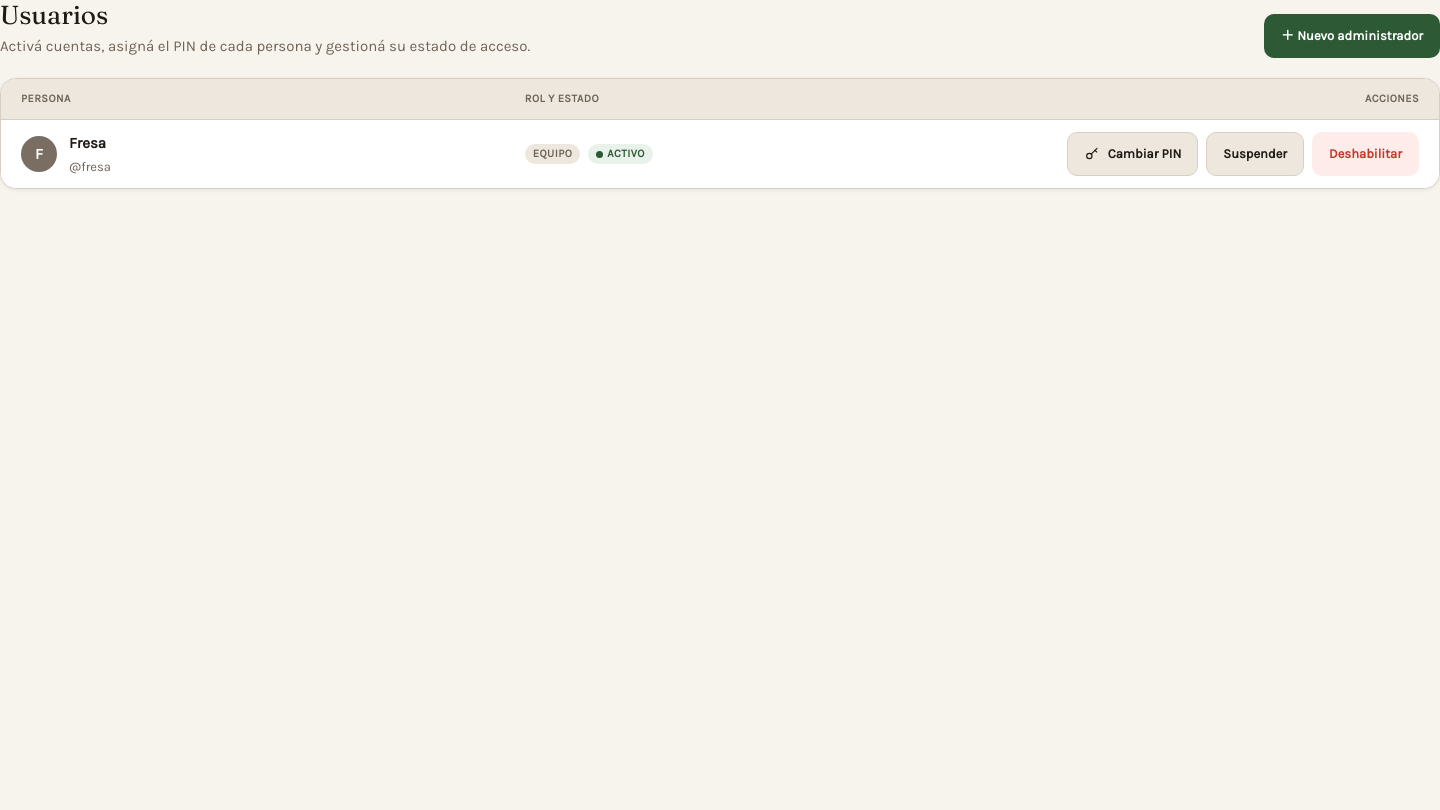
AdminUsersScreen › reset de PIN de otra persona: refresca la lista, nunca cierra la sesión propia
Step 1. Click the button "Cambiar PIN" → coordinates (1132, 154), box x1=1067 y1=132 x2=1198 y2=176
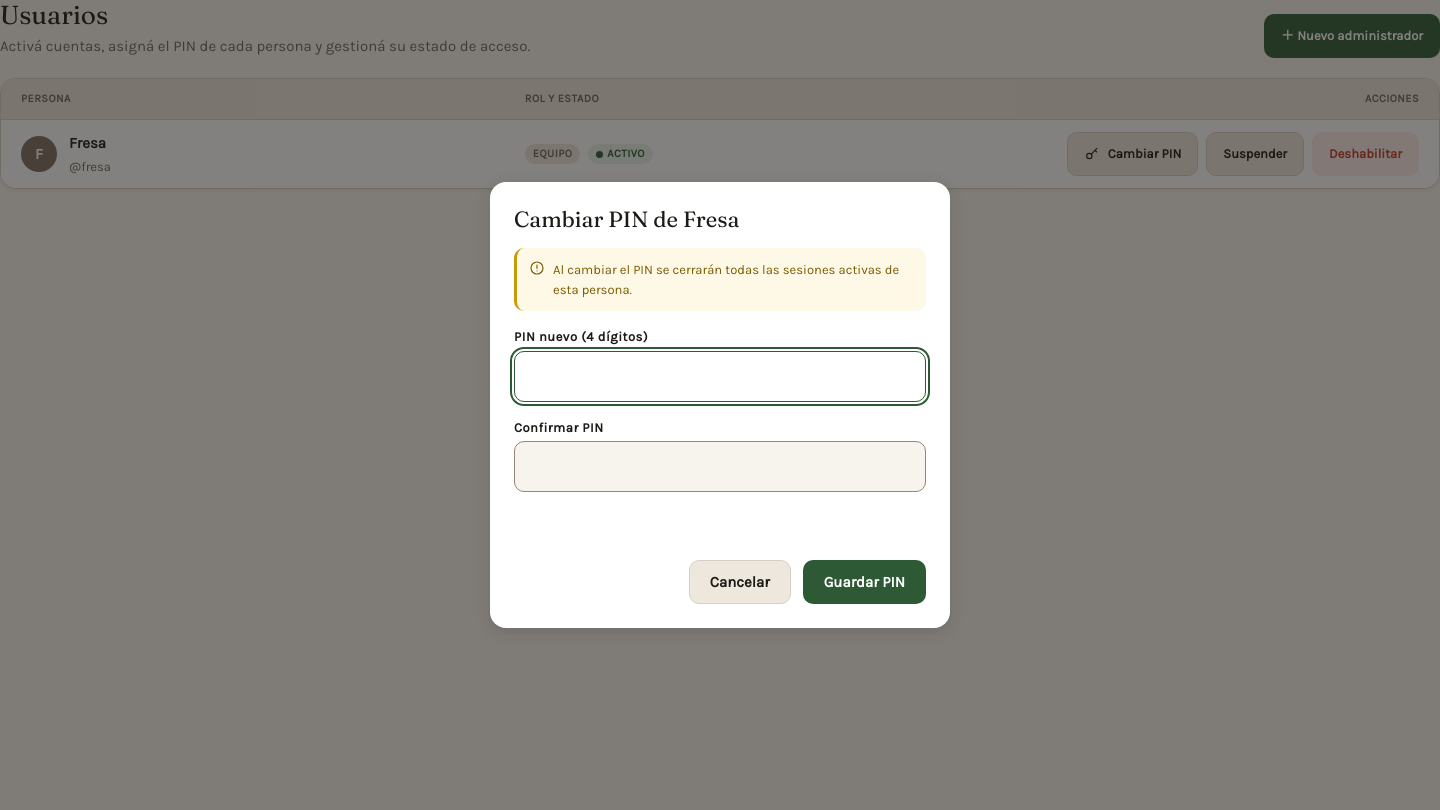
Step 2. Type "4821" into the password field labelled "PIN nuevo (4 dígitos)" → coordinates (720, 376), box x1=514 y1=351 x2=926 y2=402
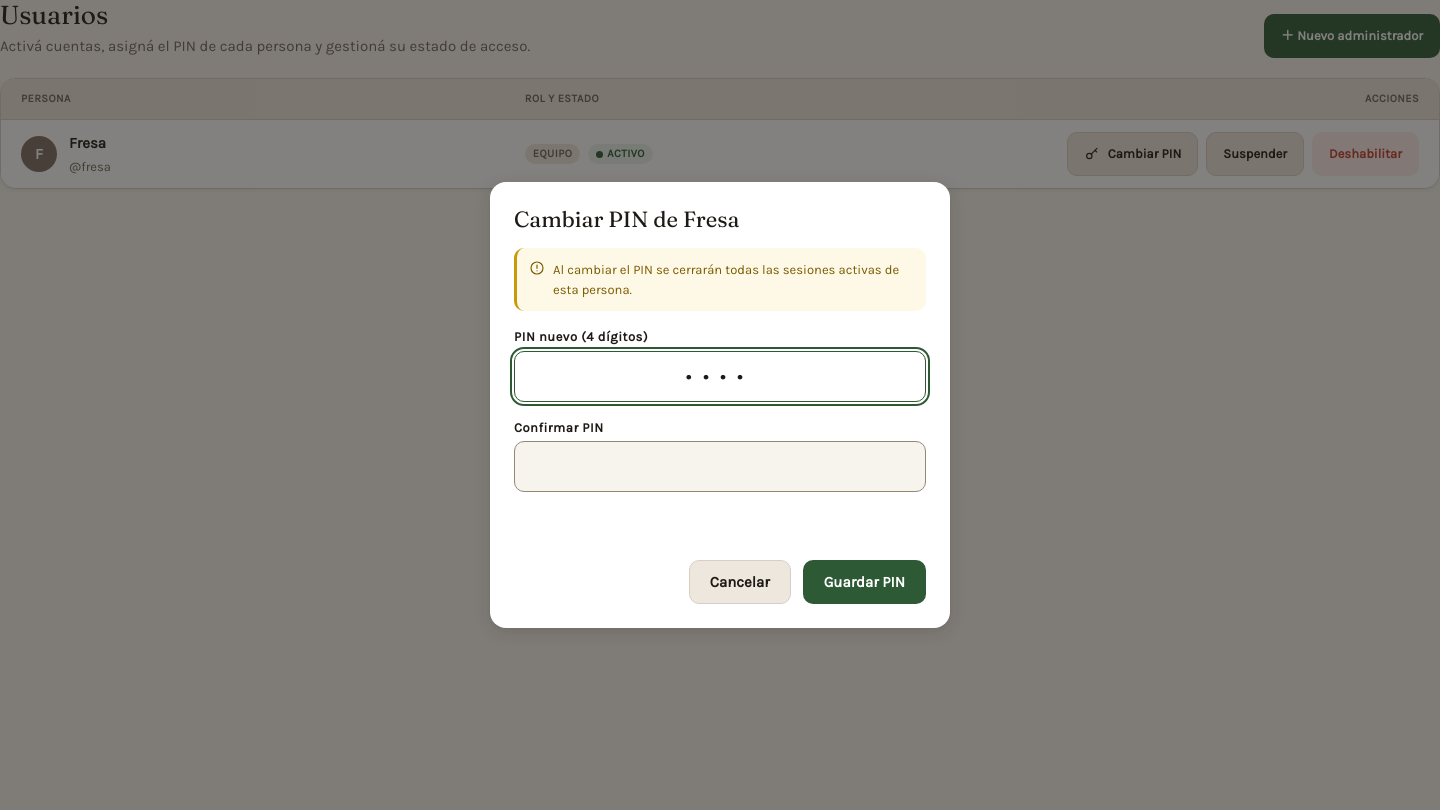
Step 3. Type "4821" into the password field labelled "Confirmar PIN" → coordinates (720, 467), box x1=514 y1=441 x2=926 y2=492
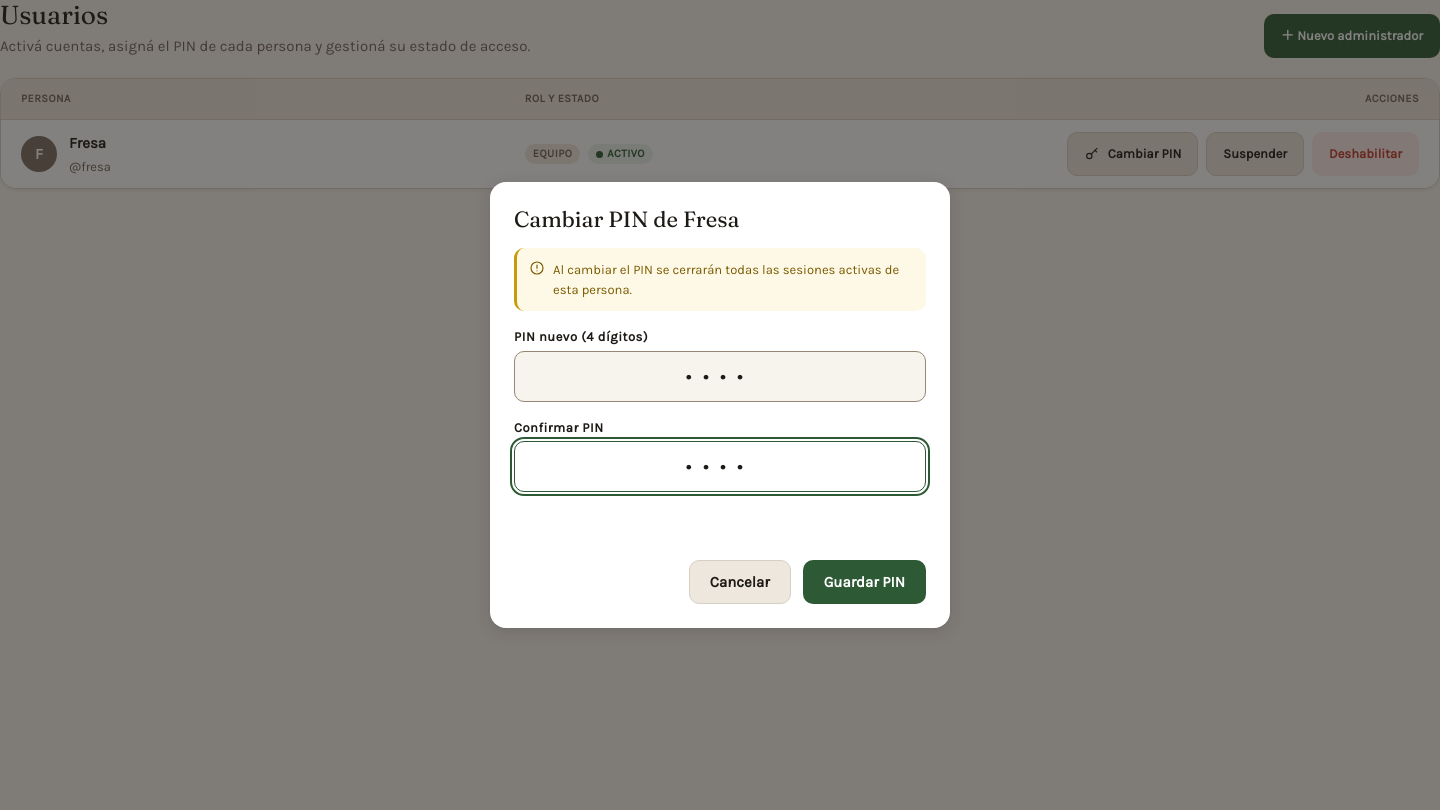
Step 4. Click the button "Guardar PIN" → coordinates (864, 582), box x1=803 y1=560 x2=926 y2=604
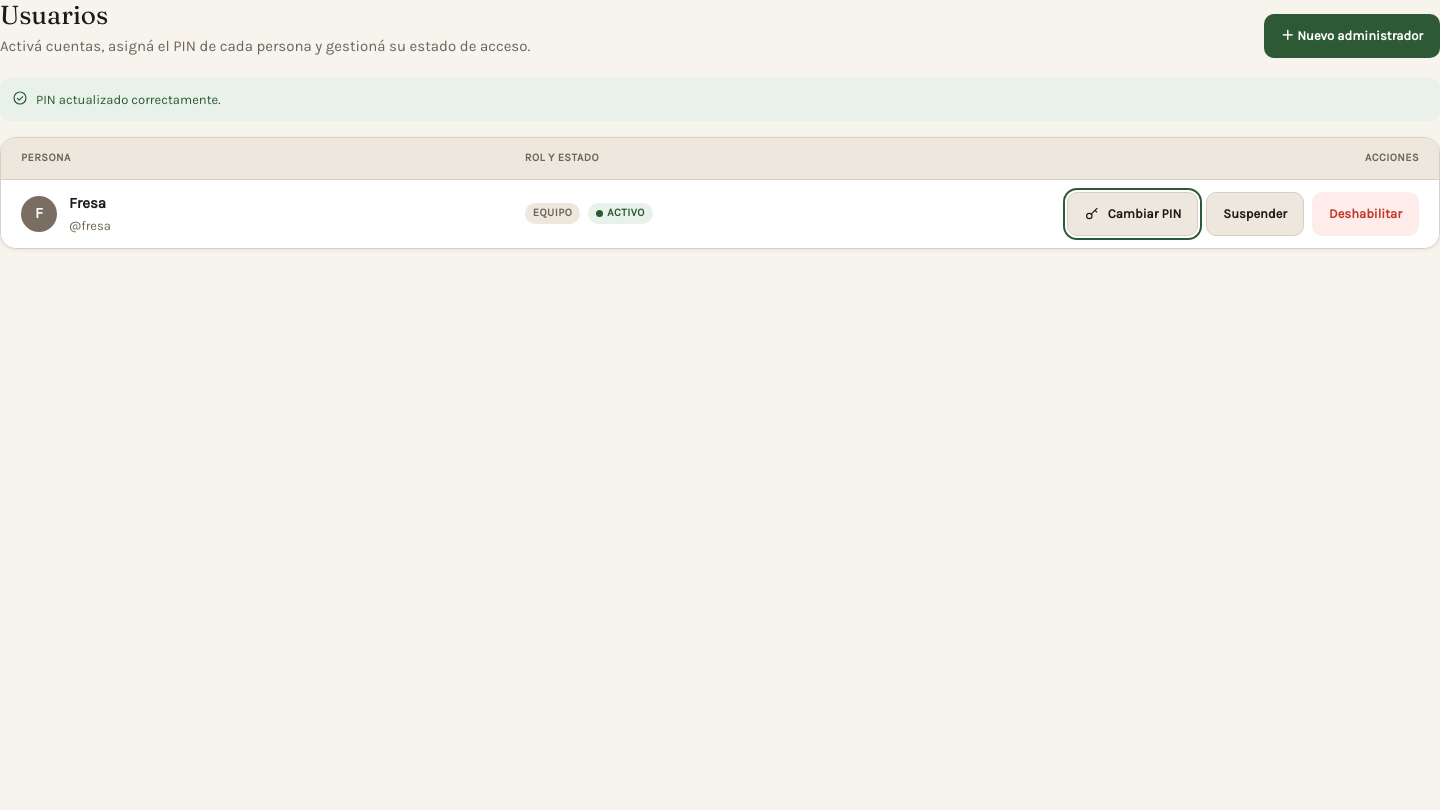
Expected: the text "PIN actualizado correctamente." is shown, x1=0 y1=78 x2=1439 y2=121
